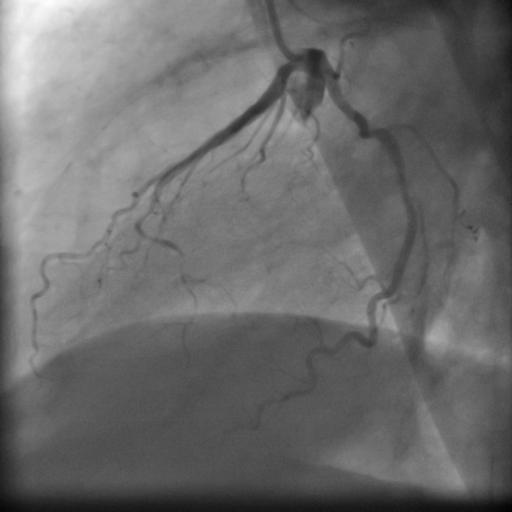Stenosis: (359, 113, 379, 144)
